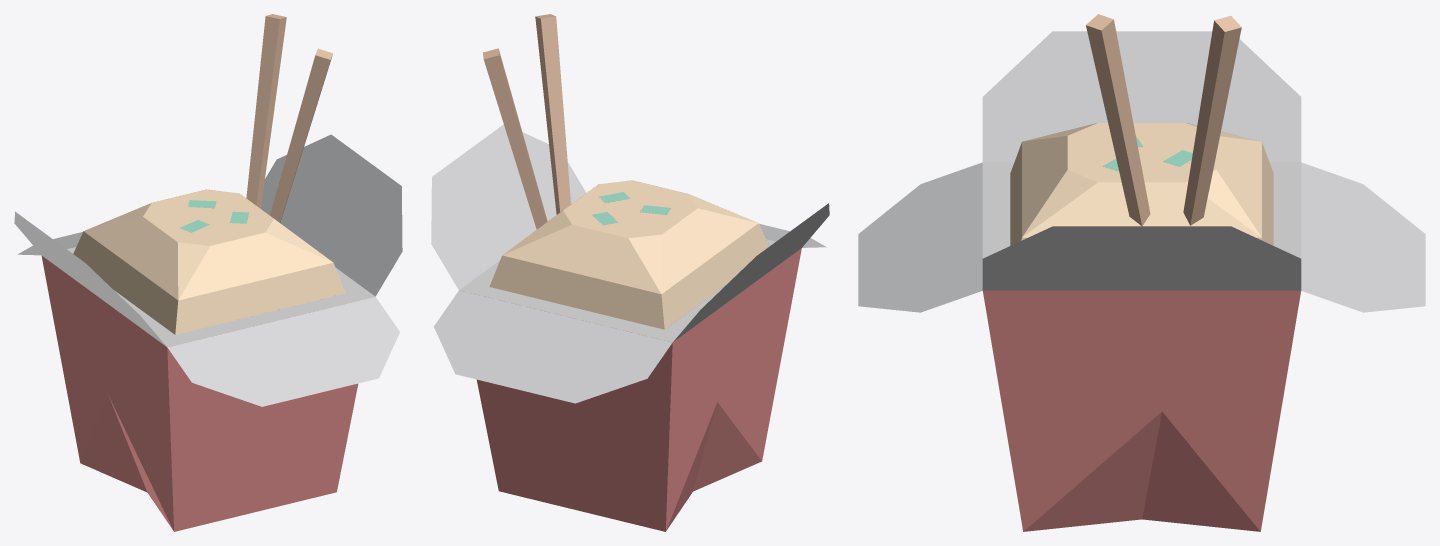
3 renders of one model, left to right at view 1: azimuth 30°, elevation 25°; view 2: azimuth 150°, elevation 25°; view 3: azimuth 270°, elevation 25°, orthographic. The views are drawn at different scales.
Visible parts, largest first — view 1: chinese, chopstick (×2); view 2: chinese, chopstick (×2); view 3: chinese, chopstick (×2).
Part boxes in pixels (box(x1,y1,x2,y2)): chinese: box(14, 134, 402, 531); chopstick (×2): box(246, 14, 332, 222); chinese: box(431, 124, 829, 531); chopstick (×2): box(482, 14, 570, 229); chinese: box(858, 31, 1425, 531); chopstick (×2): box(1086, 14, 1241, 226).
Size of the model in its own units: 0.4538 by 0.5671 by 0.5575.
